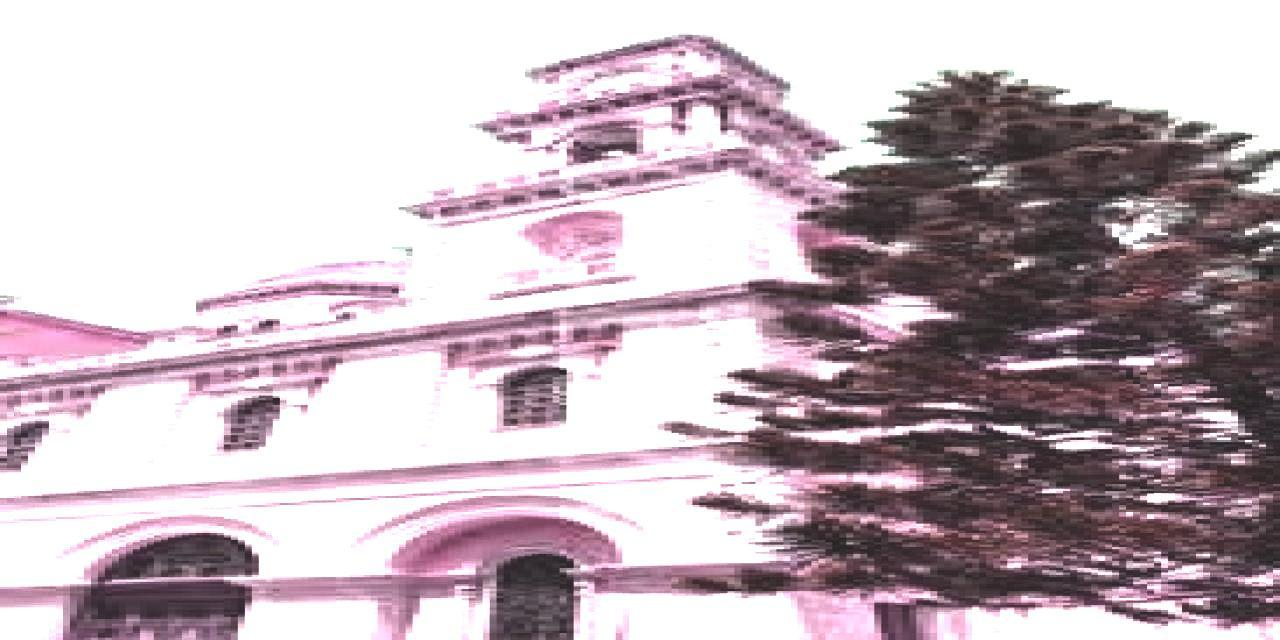Agios Minas: (1, 1, 1268, 640)
